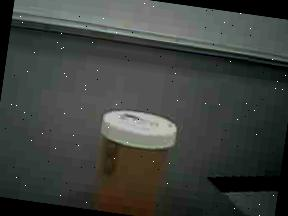Bottle B: (75, 96, 190, 216)
